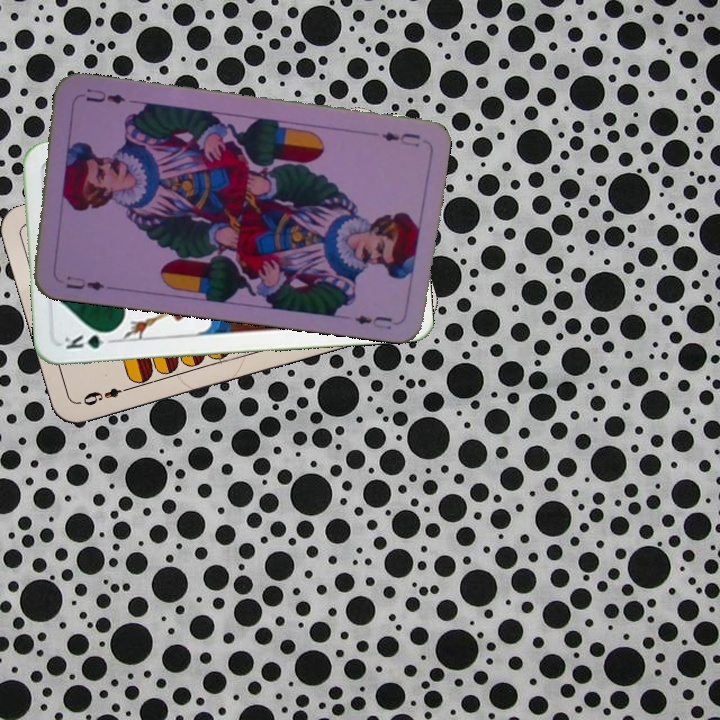E9: (76, 382, 134, 409)
EU: (62, 271, 108, 293), (378, 128, 423, 150)
GK: (60, 327, 118, 352)
